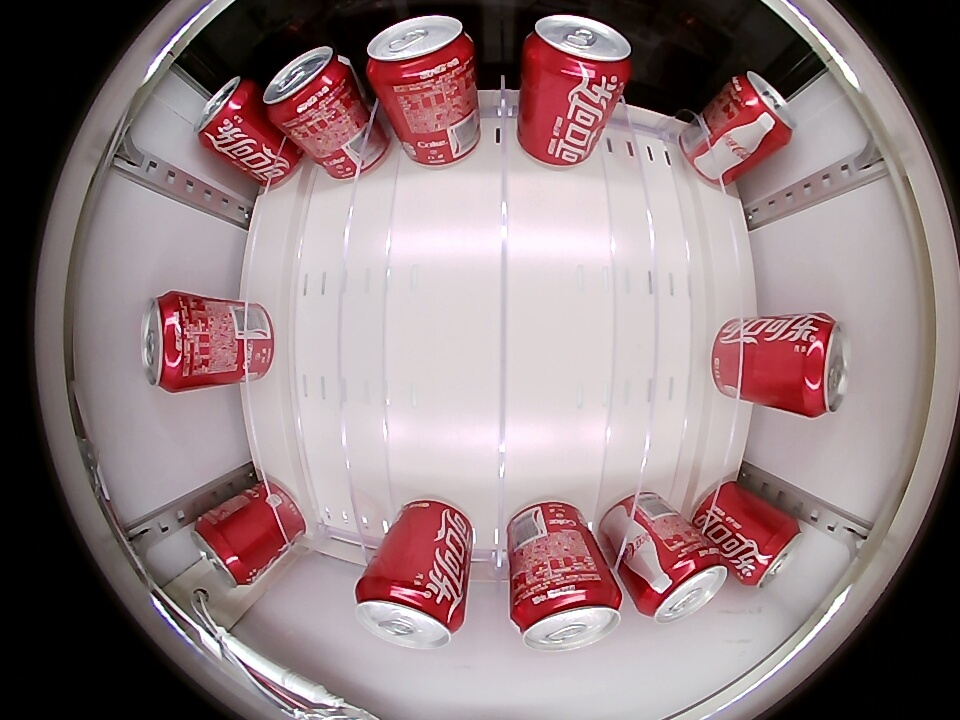kele: (355, 573, 464, 650), (510, 579, 622, 653), (366, 15, 474, 90), (523, 15, 632, 89), (635, 544, 728, 624), (264, 46, 352, 126), (793, 313, 850, 418), (143, 291, 202, 392), (724, 70, 795, 152), (195, 75, 260, 152), (193, 509, 256, 588), (741, 517, 802, 591)
